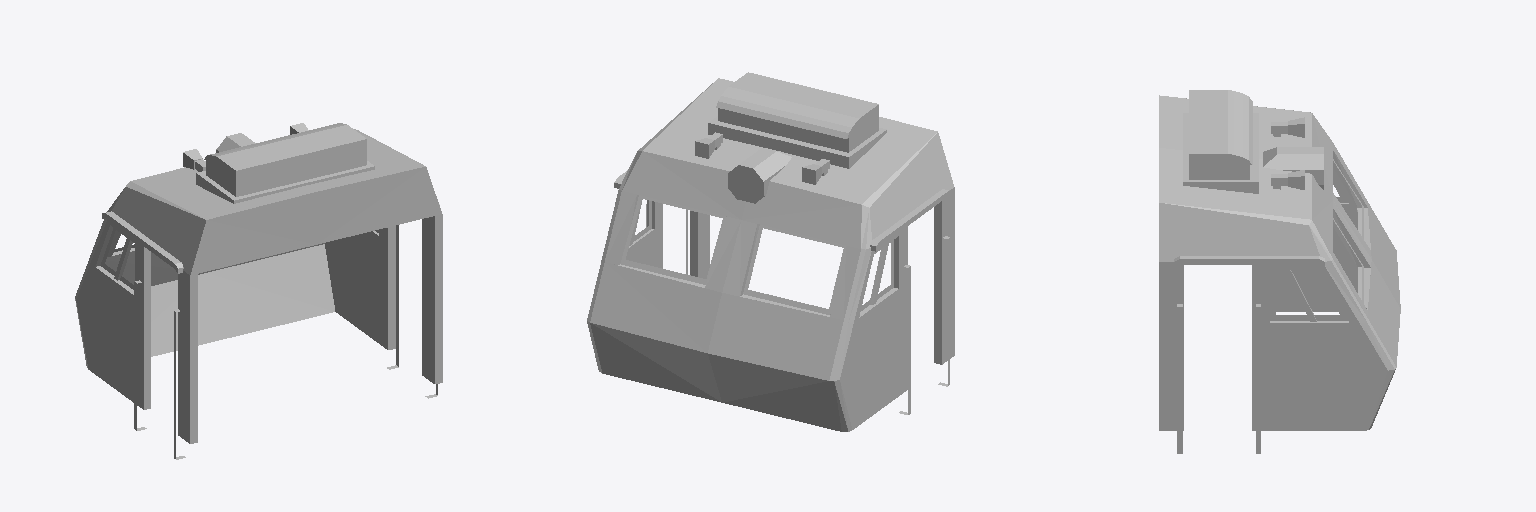
File: ss8_head_late.obj
3 views of the same model, side by side, from view 1: azimuth 30°, elevation 25°; view 2: azimuth 150°, elevation 25°; view 3: azimuth 270°, elevation 25° (orthographic).
Parts seen in each view (by area): view 1: cube_selection; view 2: cube_selection; view 3: cube_selection.
Boxes of the visible parts, <box> form: cube_selection: <box>75,123,442,459</box>; cube_selection: <box>587,72,954,431</box>; cube_selection: <box>1159,90,1400,453</box>.
Bounding box in the file's own units: 3.25 × 3.19 × 2.6.